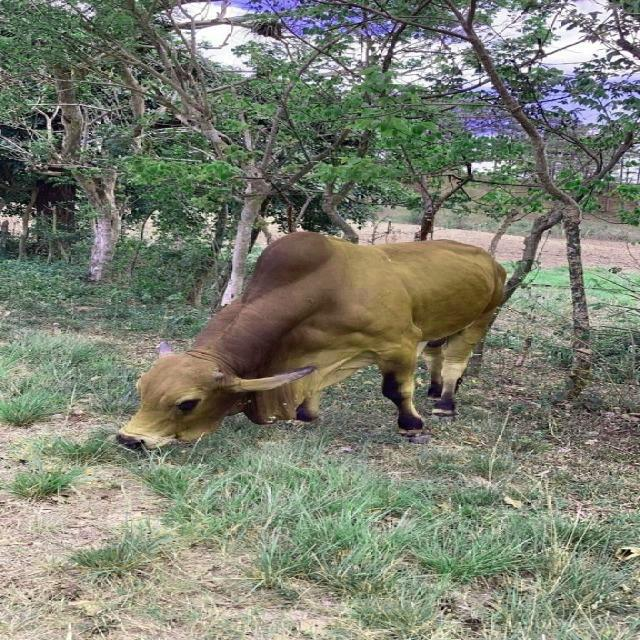cow: (118, 232, 506, 448)
